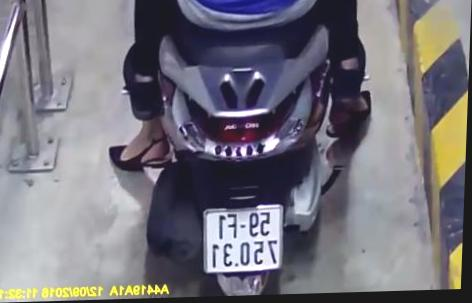License_Plate: (194, 195, 292, 281)
